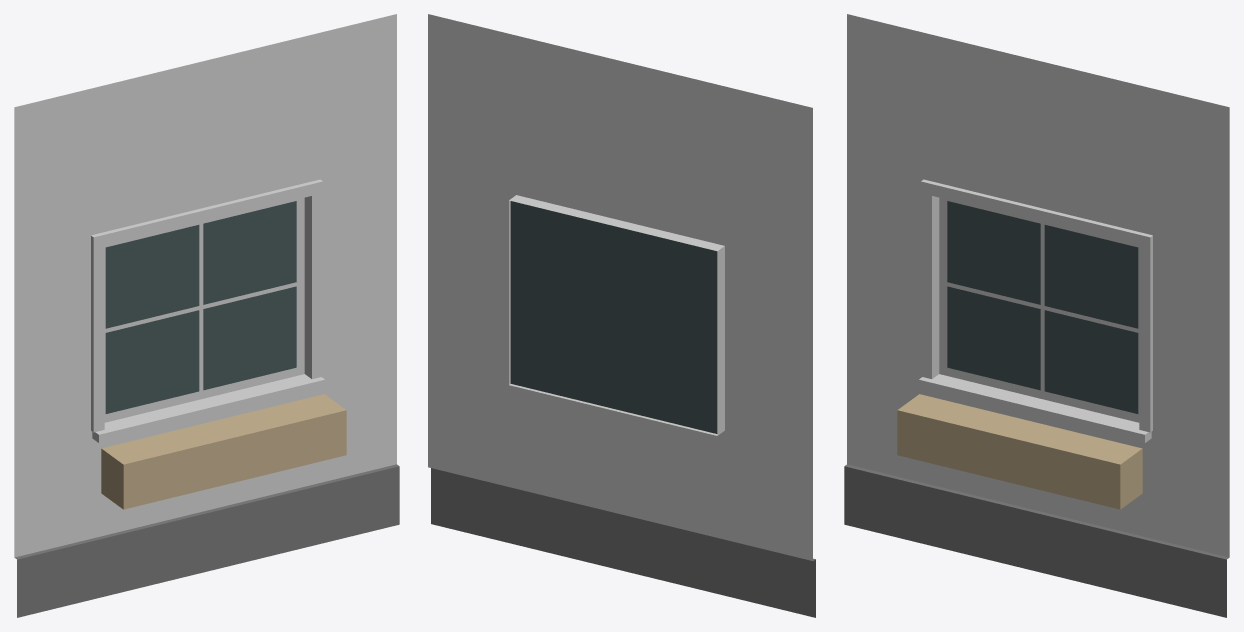
The picture shows the model from 3 angles, left to right: view 1: azimuth 30°, elevation 25°; view 2: azimuth 150°, elevation 25°; view 3: azimuth 330°, elevation 25°; orthographic projection.
Parts seen in each view (by area): view 1: a2015/200/base-w3; view 2: a2015/200/base-w3; view 3: a2015/200/base-w3.
Part boxes in pixels (box(x1,y1,x2,y2)): a2015/200/base-w3: box(14, 14, 399, 617); a2015/200/base-w3: box(428, 14, 815, 617); a2015/200/base-w3: box(844, 14, 1229, 617).
Bounding box in the file's own units: 2.4 × 3.05 × 0.4.
